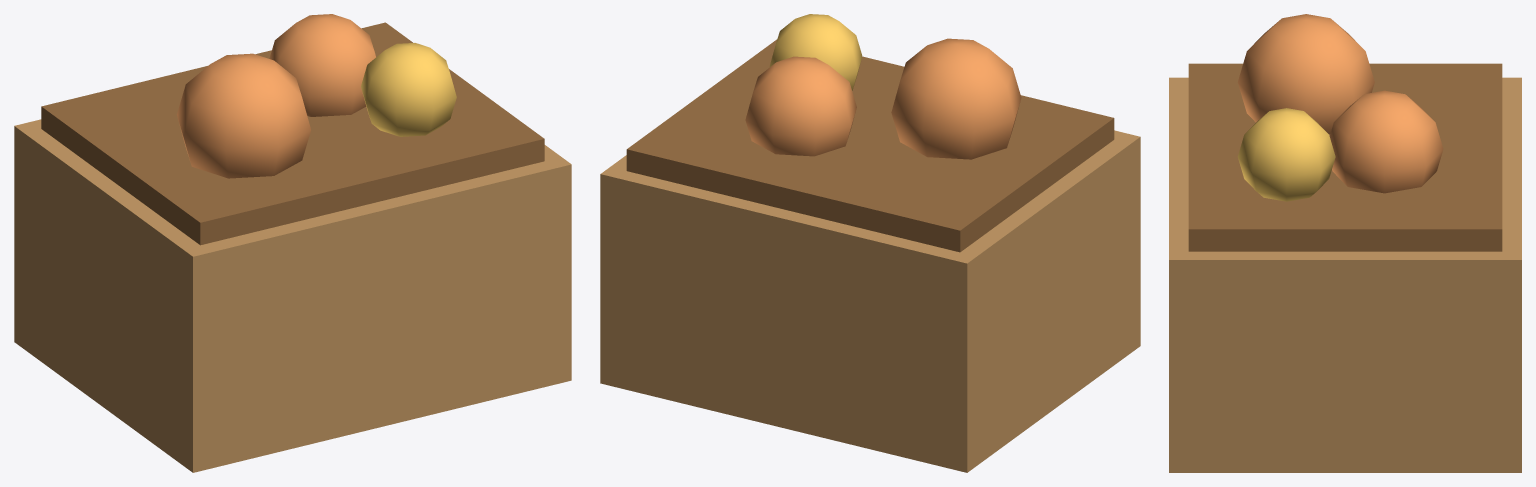
File: market_crate.glb
The picture shows the model from 3 angles, left to right: view 1: azimuth 30°, elevation 25°; view 2: azimuth 150°, elevation 25°; view 3: azimuth 270°, elevation 25°; orthographic projection. The views are drawn at different scales.
Parts seen in each view (by area): view 1: market_crate; view 2: market_crate; view 3: market_crate.
Boxes of the visible parts, x1=… form: market_crate: x1=14, y1=14, x2=571, y2=472; market_crate: x1=600, y1=14, x2=1140, y2=472; market_crate: x1=1169, y1=14, x2=1521, y2=472.
Bounding box in the file's own units: 22 × 18.5 × 18.
